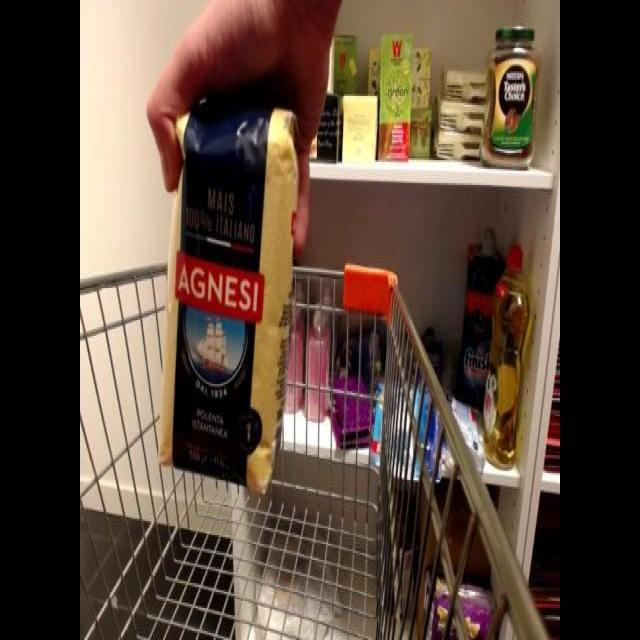Agnesi Polenta: (150, 96, 304, 500)
